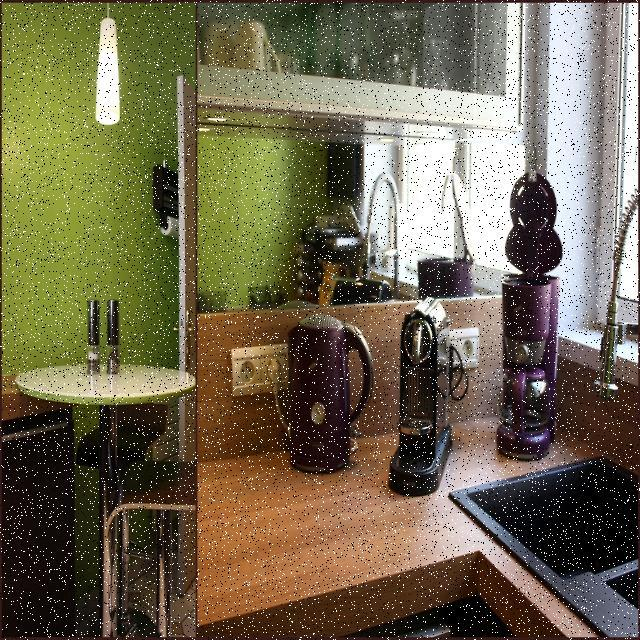Coffee-Machine: (489, 158, 605, 478), (383, 292, 481, 512)
